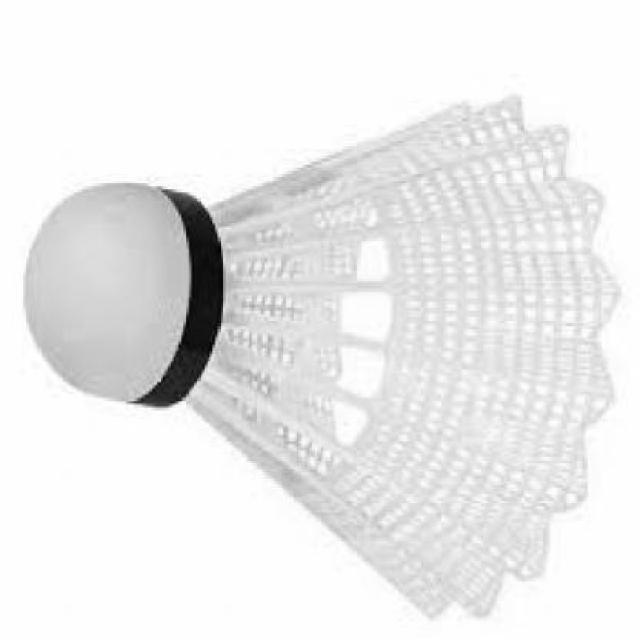Shuttlecock: (25, 90, 623, 622)
